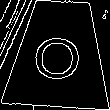O_N: (33, 27, 85, 81)
